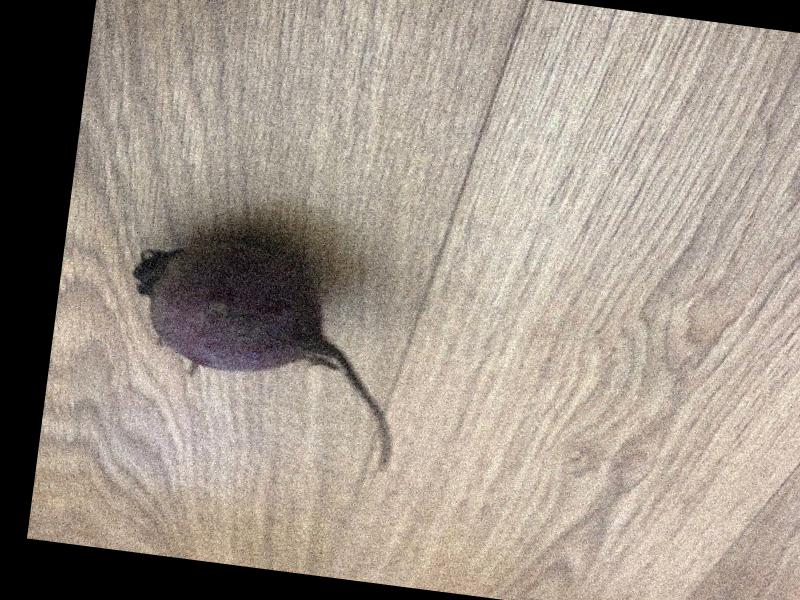Beet: (117, 229, 420, 472)
